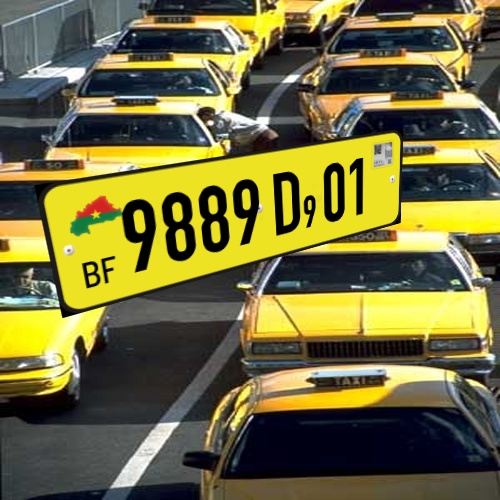plate: (17, 123, 416, 324)
